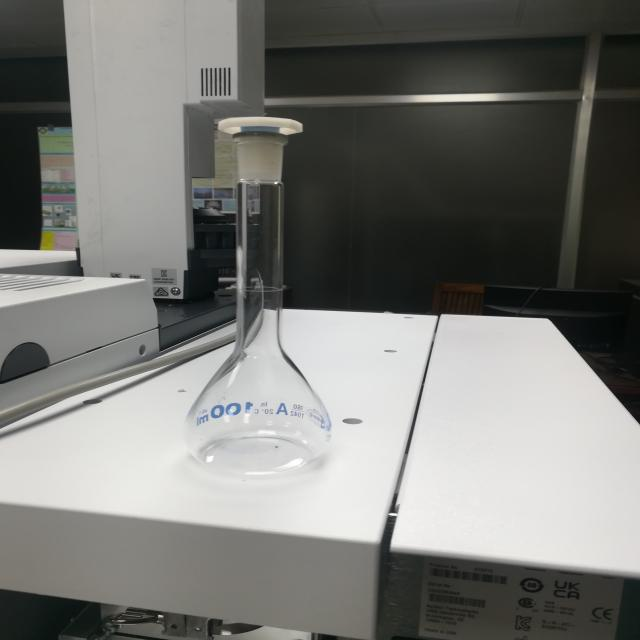Volumetric_Flask: (144, 83, 382, 497)
